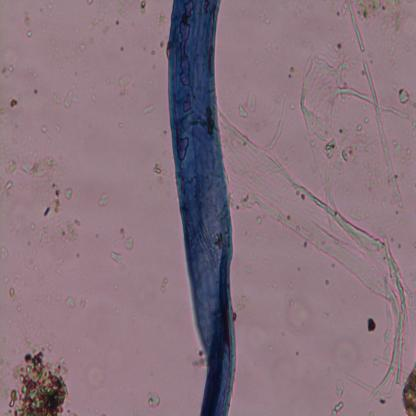Background material: (300, 35, 408, 221), (5, 340, 68, 415), (18, 158, 74, 220), (352, 1, 414, 32), (80, 4, 116, 52), (32, 218, 82, 249), (326, 336, 362, 372), (284, 295, 310, 339), (139, 16, 168, 54), (4, 273, 25, 316), (86, 356, 114, 388), (401, 361, 416, 415), (24, 251, 46, 284), (0, 47, 19, 84), (245, 323, 267, 353), (152, 158, 168, 186), (4, 158, 15, 198), (238, 92, 256, 116), (118, 72, 134, 97), (330, 1, 352, 16), (51, 254, 67, 274), (396, 86, 410, 106), (160, 270, 171, 294), (148, 390, 161, 410), (109, 249, 124, 265), (257, 11, 271, 28), (64, 91, 77, 109), (366, 318, 379, 334), (21, 10, 33, 26), (264, 41, 276, 57), (124, 236, 134, 255), (50, 89, 61, 106), (333, 400, 344, 416), (139, 104, 153, 116), (99, 194, 110, 209), (0, 248, 10, 264), (10, 99, 21, 112), (283, 69, 296, 80), (64, 298, 75, 311), (118, 226, 128, 240), (254, 212, 263, 225), (140, 2, 146, 17), (90, 92, 99, 102), (26, 30, 34, 41), (324, 277, 331, 289), (290, 350, 300, 358), (40, 124, 48, 133), (55, 123, 61, 134), (45, 3, 53, 11), (33, 87, 39, 95), (47, 296, 52, 302), (118, 122, 123, 128)
Cellulose filter fibre: (227, 109, 411, 388)
Cotton: (166, 0, 238, 416)
